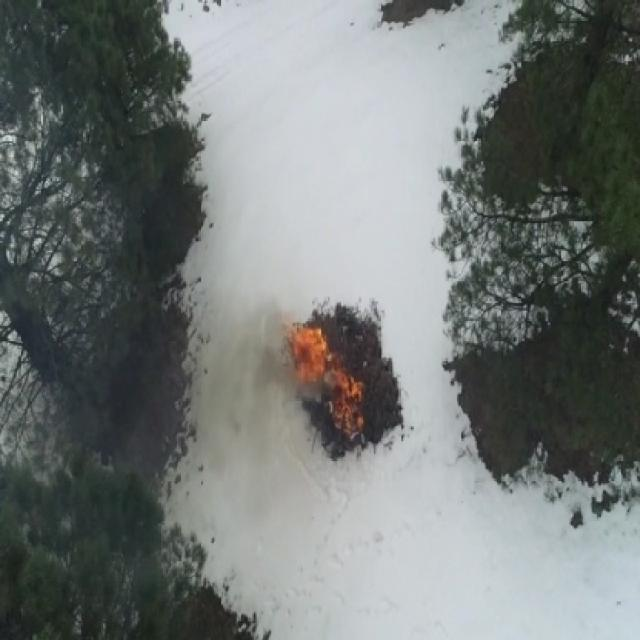Fire: (292, 328, 329, 381), (330, 354, 351, 426), (346, 377, 363, 433)
